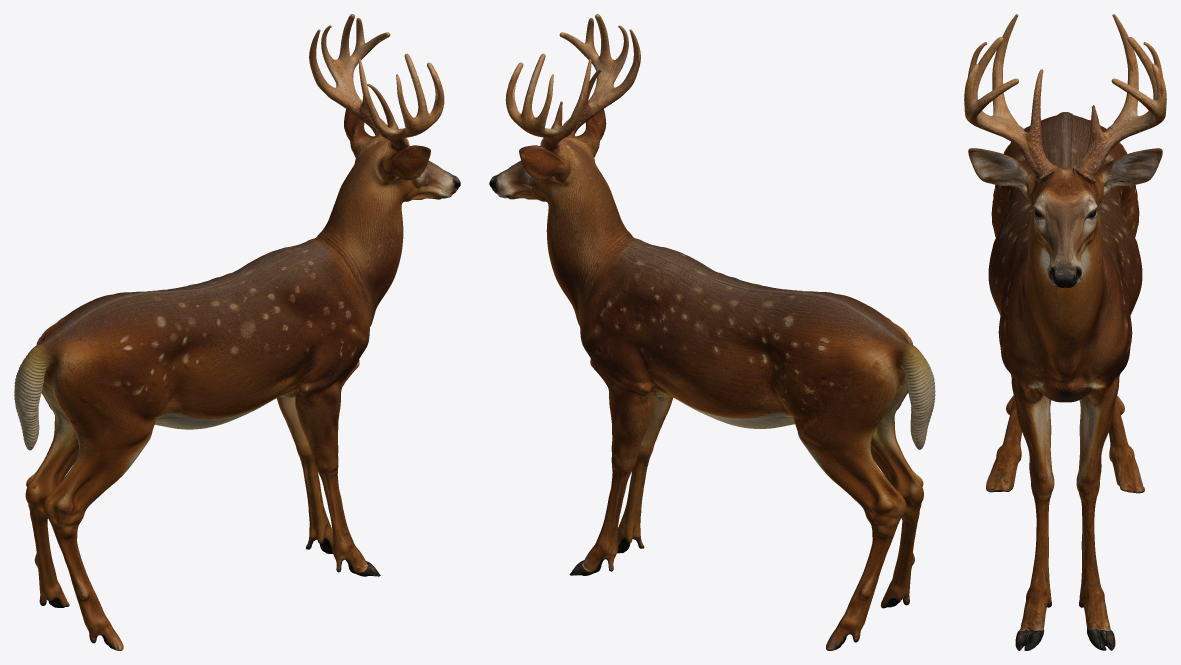
File: deer+3d+model.glb
3 renders of one model, left to right at view 1: azimuth 30°, elevation 25°; view 2: azimuth 150°, elevation 25°; view 3: azimuth 270°, elevation 25°, orthographic. The views are drawn at different scales.
Visible parts, largest first — view 1: tripo_node_4ba65107-176c-445a-9ba1-968e697f85cf; view 2: tripo_node_4ba65107-176c-445a-9ba1-968e697f85cf; view 3: tripo_node_4ba65107-176c-445a-9ba1-968e697f85cf.
Boxes of the visible parts, x1,y1,x2,y2 form: tripo_node_4ba65107-176c-445a-9ba1-968e697f85cf: (14,14,460,650); tripo_node_4ba65107-176c-445a-9ba1-968e697f85cf: (489,14,935,650); tripo_node_4ba65107-176c-445a-9ba1-968e697f85cf: (964,14,1166,650).
Bounding box in the file's own units: 0.8813 × 0.9998 × 0.294.
1 material, 1 textured.
